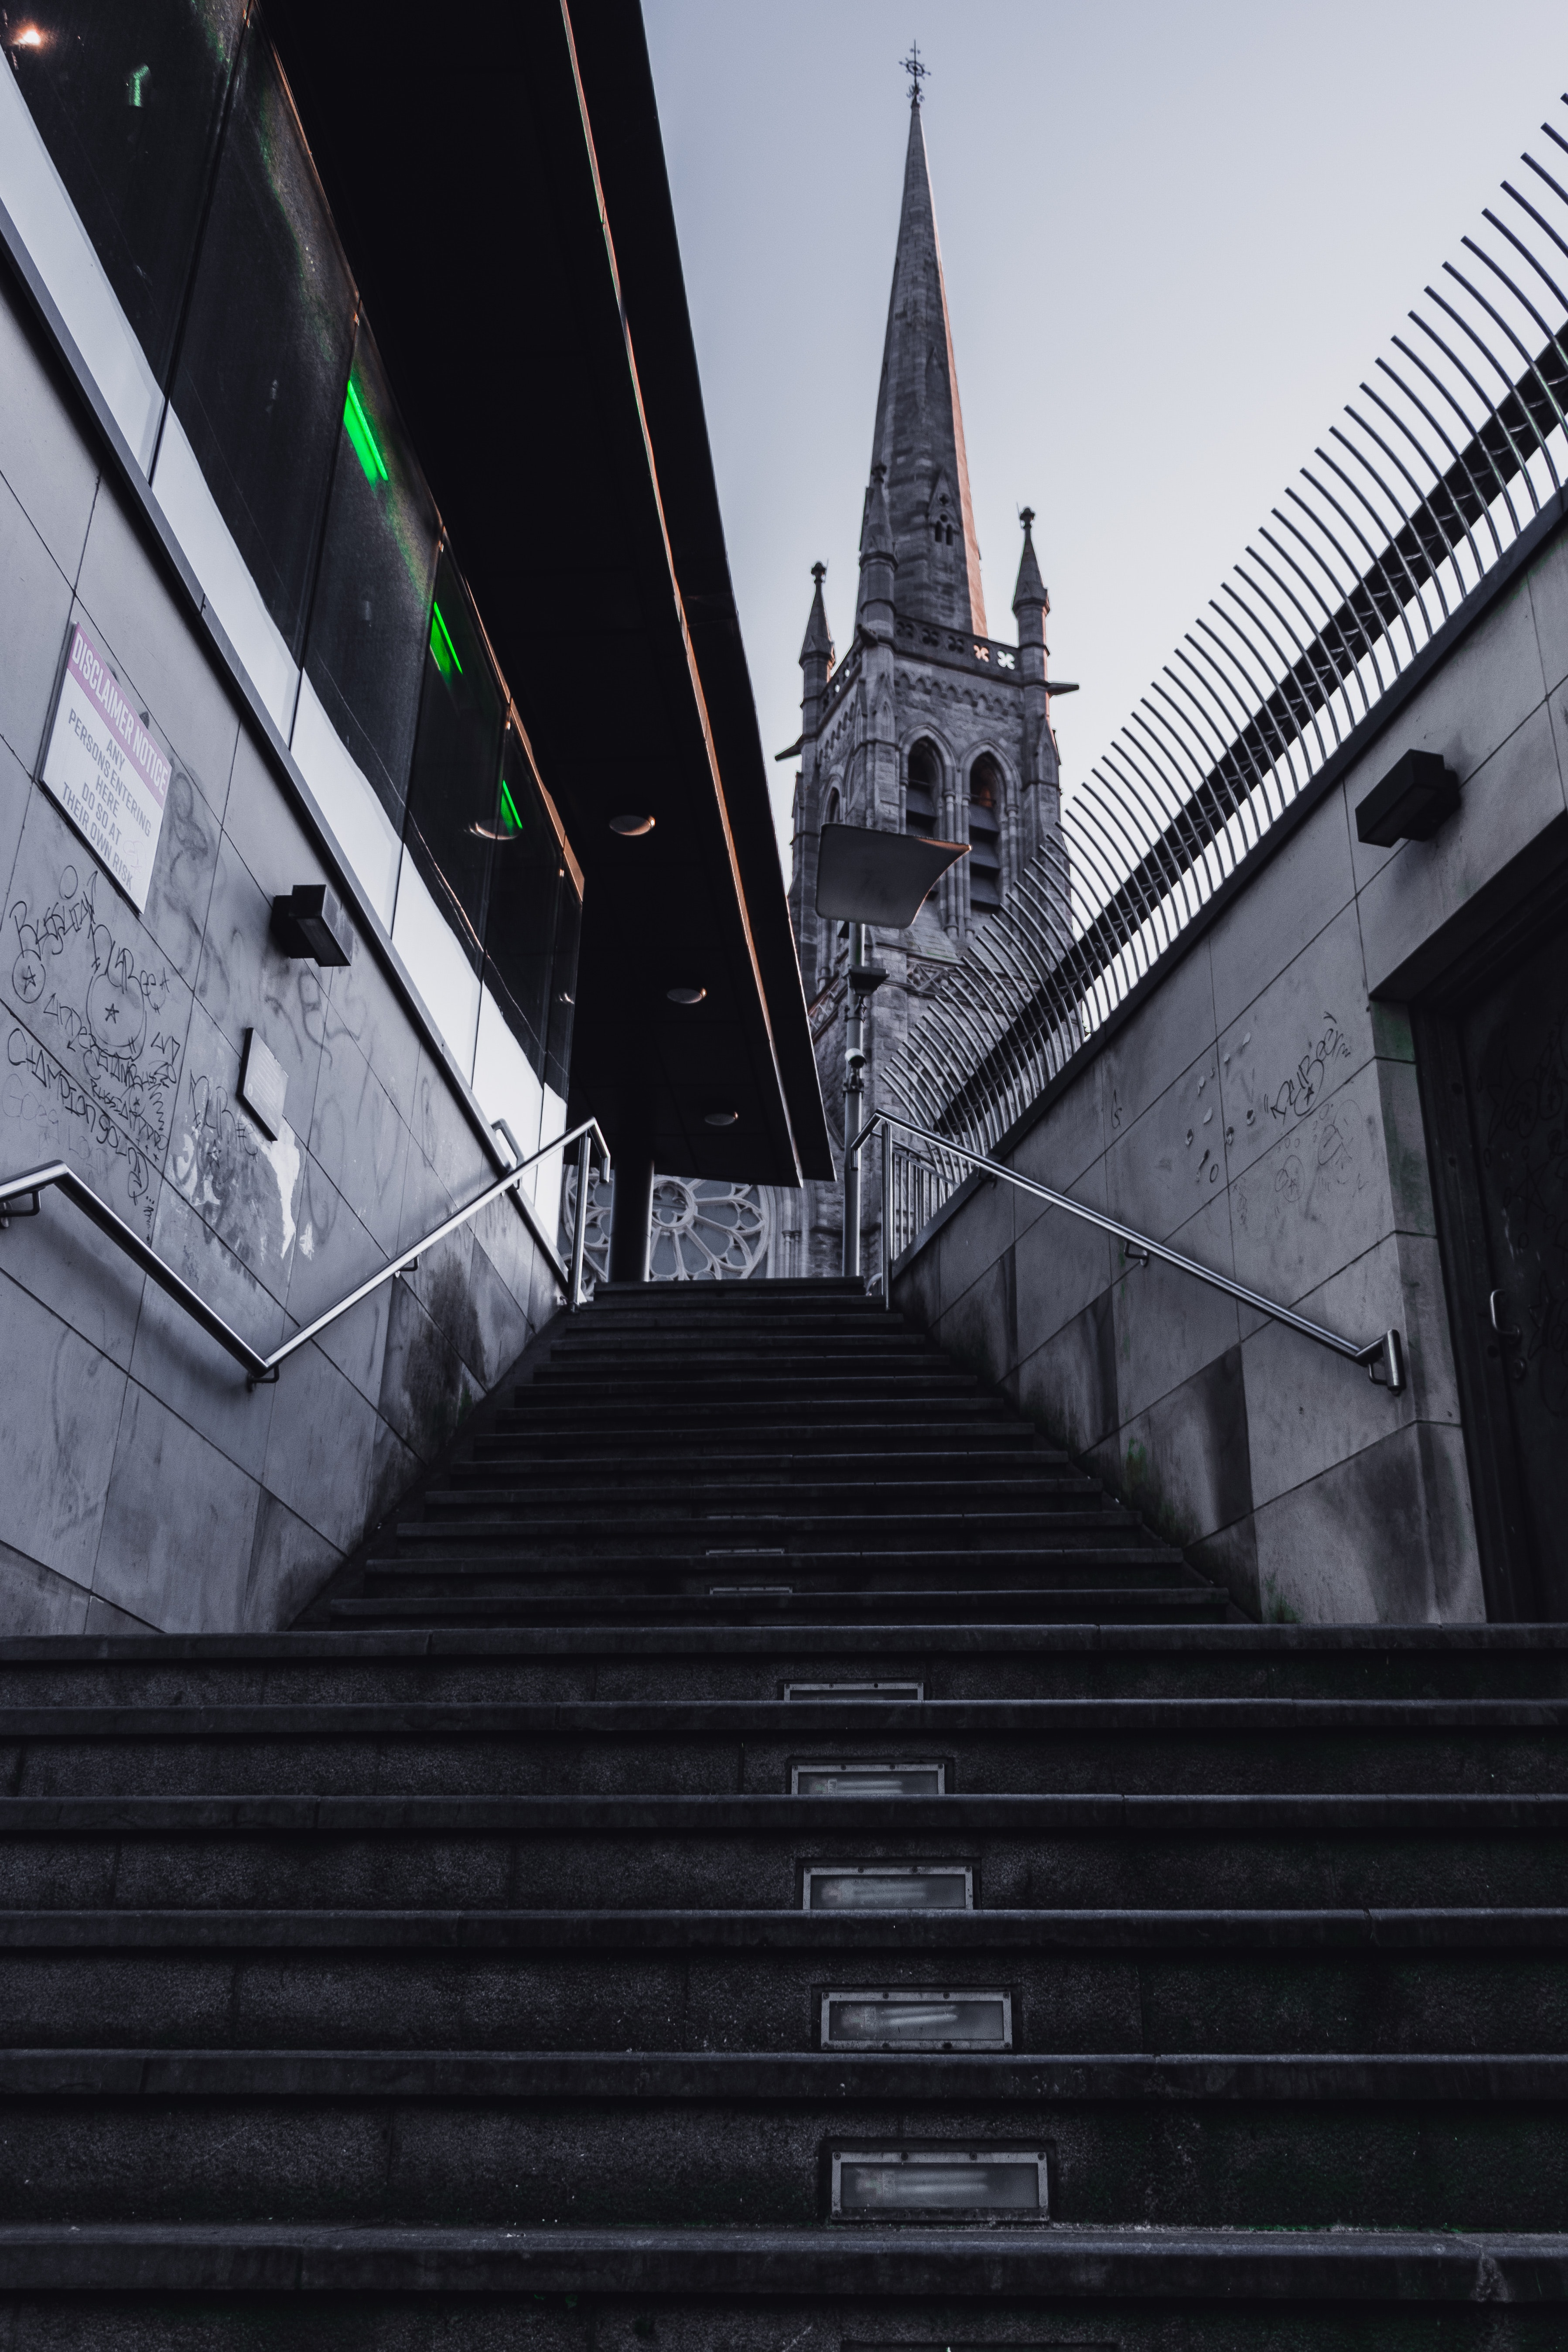upstairs: (54, 1633, 1568, 2352)
